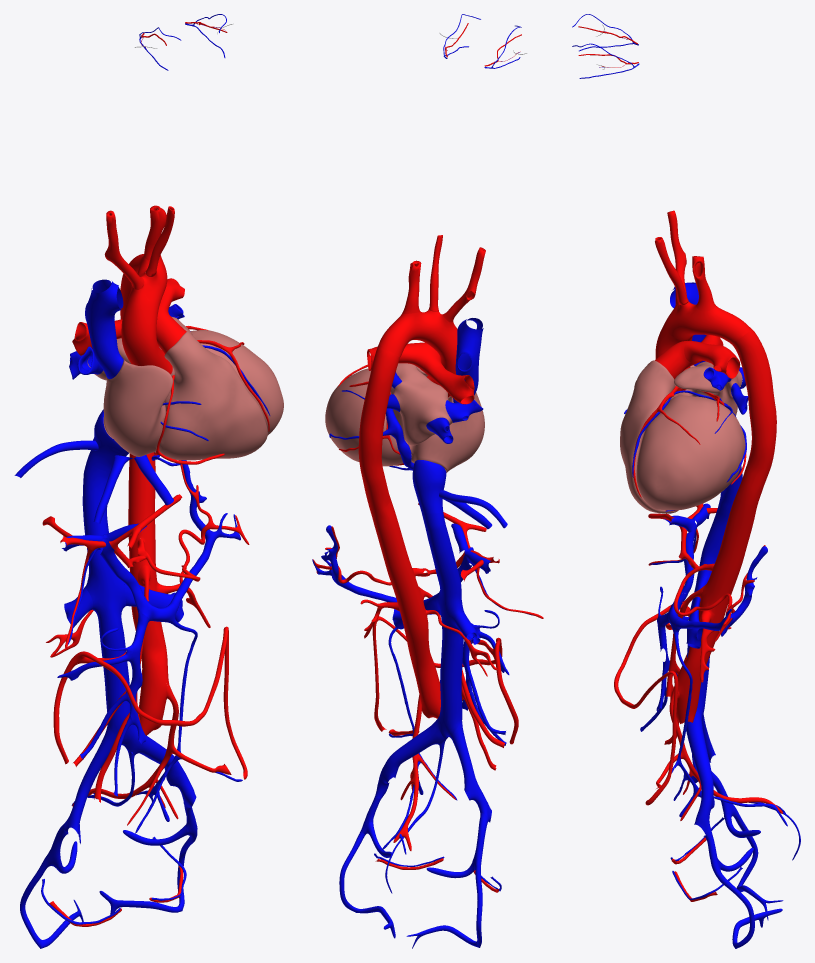
The model's file is female-cardiovascular.glb.
3 renders of one model, left to right at view 1: azimuth 30°, elevation 25°; view 2: azimuth 150°, elevation 25°; view 3: azimuth 270°, elevation 25°, orthographic. The views are drawn at different scales.
Parts seen in each view (by area): view 1: VH_F_right_ventricle, VH_F_inferior_vena_cava_b, VH_F_descending_aorta_b, VH_F_right_cardiac_atrium, VH_F_left_ventricle, VH_F_marginal_artery_of_Drummond, VH_F_superior_vena_cava, VH_F_ascending_aorta, VH_F_splenic_vein, VH_F_aortic_arch, VH_F_left_common_iliac_vein, VH_F_right_common_iliac_vein (+15 smaller); view 2: VH_F_descending_aorta_b, VH_F_inferior_vena_cava_b, VH_F_descending_aorta_a, VH_F_left_cardiac_atrium, VH_F_left_ventricle, VH_F_right_cardiac_atrium, VH_F_aortic_arch, VH_F_inferior_vena_cava_a, VH_F_left_common_iliac_vein, VH_F_superior_vena_cava, VH_F_marginal_artery_of_Drummond, VH_F_pulmonary_artery_R (+9 smaller); view 3: VH_F_left_ventricle, VH_F_descending_aorta_b, VH_F_descending_aorta_a, VH_F_right_ventricle, VH_F_aortic_arch, VH_F_inferior_vena_cava_b, VH_F_left_common_iliac_vein, VH_F_marginal_artery_of_Drummond, VH_F_splenic_vein, VH_F_left_cardiac_atrium, VH_F_pulmonary_artery_L, VH_F_splenic_artery (+9 smaller).
Boxes of the visible parts, left/top/right/bottom form: VH_F_right_ventricle: left=154, top=331, right=267, bottom=460; VH_F_inferior_vena_cava_b: left=82, top=459, right=135, bottom=745; VH_F_descending_aorta_b: left=128, top=452, right=169, bottom=735; VH_F_right_cardiac_atrium: left=103, top=359, right=173, bottom=456; VH_F_left_ventricle: left=191, top=330, right=283, bottom=435; VH_F_marginal_artery_of_Drummond: left=53, top=626, right=247, bottom=779; VH_F_superior_vena_cava: left=85, top=279, right=123, bottom=379; VH_F_ascending_aorta: left=121, top=309, right=172, bottom=374; VH_F_splenic_vein: left=139, top=460, right=240, bottom=623; VH_F_aortic_arch: left=124, top=254, right=167, bottom=312; VH_F_left_common_iliac_vein: left=124, top=726, right=196, bottom=808; VH_F_right_common_iliac_vein: left=64, top=729, right=115, bottom=836; VH_F_descending_aorta_b: left=369, top=499, right=440, bottom=718; VH_F_inferior_vena_cava_b: left=422, top=512, right=463, bottom=738; VH_F_descending_aorta_a: left=358, top=344, right=399, bottom=510; VH_F_left_cardiac_atrium: left=390, top=363, right=452, bottom=445; VH_F_left_ventricle: left=325, top=368, right=407, bottom=466; VH_F_right_cardiac_atrium: left=408, top=392, right=484, bottom=472; VH_F_aortic_arch: left=379, top=309, right=457, bottom=357; VH_F_inferior_vena_cava_a: left=412, top=460, right=446, bottom=513; VH_F_left_common_iliac_vein: left=374, top=718, right=443, bottom=798; VH_F_superior_vena_cava: left=453, top=318, right=483, bottom=402; VH_F_marginal_artery_of_Drummond: left=372, top=616, right=518, bottom=744; VH_F_pulmonary_artery_R: left=423, top=354, right=474, bottom=404; VH_F_left_ventricle: left=636, top=395, right=745, bottom=510; VH_F_descending_aorta_b: left=676, top=493, right=758, bottom=723; VH_F_descending_aorta_a: left=731, top=329, right=776, bottom=504; VH_F_right_ventricle: left=620, top=360, right=678, bottom=513; VH_F_aortic_arch: left=665, top=301, right=751, bottom=343; VH_F_inferior_vena_cava_b: left=687, top=475, right=742, bottom=719; VH_F_left_common_iliac_vein: left=686, top=712, right=714, bottom=835; VH_F_marginal_artery_of_Drummond: left=614, top=603, right=690, bottom=805; VH_F_splenic_vein: left=668, top=546, right=767, bottom=636; VH_F_left_cardiac_atrium: left=674, top=361, right=742, bottom=415; VH_F_pulmonary_artery_L: left=684, top=341, right=740, bottom=378; VH_F_splenic_artery: left=673, top=545, right=765, bottom=641.
Size of the model in its own units: 0.1971 by 0.7992 by 0.1849.
